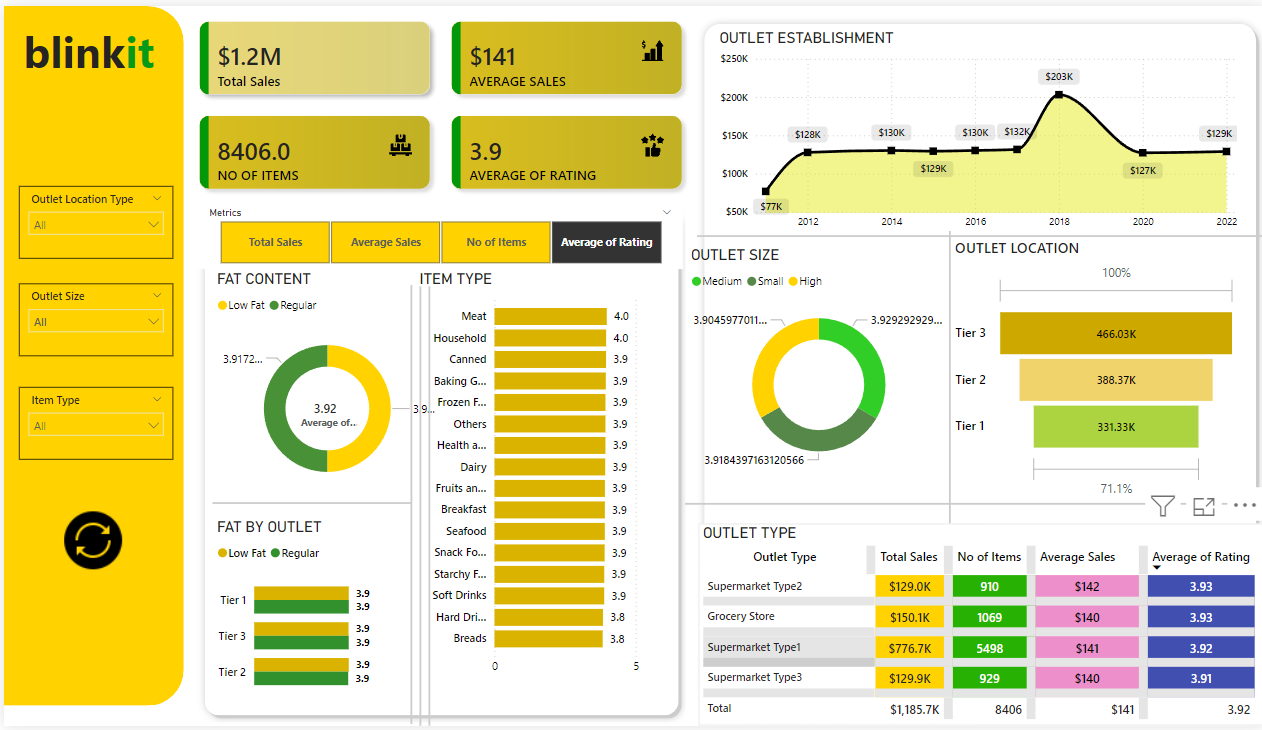

The page's visual inventory and layout, read from the dashboard file:
{"tool":"powerbi","page":{"name":"Page 1","canvas":[1400,800],"ordinal":0},"visuals":[{"type":"shape","box":[0,0,199.7,777.6],"z":0},{"type":"textbox","box":[15.9,12.4,167.9,83.1],"z":1000},{"type":"cardVisual","fields":{"Data":["BlinkIT Grocery Data.Total Sales","BlinkIT Grocery Data.Average sales","BlinkIT Grocery Data.No of Items","BlinkIT Grocery Data.Average of Rating"]},"box":[199.7,0,570.9,220],"z":2000},{"type":"shape","box":[215.6,219.2,542.6,577.9],"z":3000},{"type":"donutChart","title":"FAT CONTENT","fields":{"Y":["BlinkIT Grocery Data.Average of Rating"],"Category":["BlinkIT Grocery Data.Item Fat Content"]},"box":[231.5,293.4,254.5,259.8],"z":4000},{"type":"slicer","fields":{"Values":["Metrics.Metrics"]},"box":[215.6,219.2,539,74.2],"z":5000},{"type":"cardVisual","fields":{"Data":["BlinkIT Grocery Data.Average of Rating"]},"box":[305.8,399.4,104.3,107.8],"z":6000},{"type":"clusteredBarChart","title":"FAT BY OUTLET","fields":{"Y":["BlinkIT Grocery Data.Average of Rating"],"Category":["BlinkIT Grocery Data.Outlet Location Type"],"Series":["BlinkIT Grocery Data.Item Fat Content"]},"box":[231.5,569.1,220.9,208.6],"z":7000},{"type":"shape","box":[231.5,526.7,220.9,51.2],"z":8000},{"type":"shape","box":[318.1,309.3,268.6,487.8],"z":9000},{"type":"barChart","title":"ITEM TYPE","fields":{"Y":["BlinkIT Grocery Data.Average of Rating"],"Category":["BlinkIT Grocery Data.Item Type"]},"box":[456,293.4,298.7,457.7],"z":10000},{"type":"shape","box":[770.6,12.4,629.2,784.7],"z":11000},{"type":"lineChart","title":"OUTLET ESTABLISHMENT","fields":{"Y":["BlinkIT Grocery Data.Total Sales"],"Category":["BlinkIT Grocery Data.Outlet Establishment Year"]},"box":[790,24.7,585,231.5],"z":12000},{"type":"shape","box":[770.6,229.8,629.2,51.2],"z":13000},{"type":"donutChart","title":"OUTLET SIZE","fields":{"Y":["BlinkIT Grocery Data.Average of Rating"],"Category":["BlinkIT Grocery Data.Outlet Size"]},"box":[758.6,266.6,293.5,260.4],"z":14000},{"type":"shape","box":[917.2,249.2,268.6,514.3],"z":15000},{"type":"funnel","title":"OUTLET LOCATION","fields":{"Y":["Sum(BlinkIT Grocery Data.Sales)"],"Category":["BlinkIT Grocery Data.Outlet Location Type"]},"box":[1052.1,256.3,322.4,295.6],"z":16000},{"type":"shape","box":[756.5,529.1,642.8,49.6],"z":17000},{"type":"pivotTable","title":"OUTLET TYPE","fields":{"Values":["BlinkIT Grocery Data.Total Sales","BlinkIT Grocery Data.No of Items","BlinkIT Grocery Data.Average Sales","BlinkIT Grocery Data.Average of Rating"],"Rows":["BlinkIT Grocery Data.Outlet Type"]},"box":[771,574.6,628.4,225.3],"z":18000},{"type":"slicer","fields":{"Values":["BlinkIT Grocery Data.Outlet Location Type"]},"box":[16.5,200.5,171.6,80.6],"z":19000},{"type":"shape","box":[328.1,312.2,268.6,487.8],"z":20000},{"type":"shape","box":[338.1,312.2,268.6,487.8],"z":21000},{"type":"slicer","fields":{"Values":["BlinkIT Grocery Data.Item Type"]},"box":[16.5,423.7,171.6,80.6],"z":22000},{"type":"slicer","fields":{"Values":["BlinkIT Grocery Data.Outlet Size"]},"box":[16.5,308,171.6,80.6],"z":23000},{"type":"image","box":[56.9,554,84.2,80],"z":23001}]}

Visuals, with their boxes in screenshot pixels (x1, y1, x2, y2), scaled from the page's 1400x800 canvas onto the 1262x730 screenshot:
shape: select_region(0, 0, 180, 710)
textbox: select_region(14, 11, 166, 87)
cardVisual - BlinkIT Grocery Data.Total Sales x BlinkIT Grocery Data.Average sales: select_region(180, 0, 695, 201)
shape: select_region(194, 200, 683, 727)
"FAT CONTENT" donutChart: select_region(209, 268, 438, 505)
slicer - Metrics.Metrics: select_region(194, 200, 680, 268)
cardVisual - BlinkIT Grocery Data.Average of Rating: select_region(276, 364, 370, 463)
"FAT BY OUTLET" clusteredBarChart: select_region(209, 519, 408, 710)
shape: select_region(209, 481, 408, 527)
shape: select_region(287, 282, 529, 727)
"ITEM TYPE" barChart: select_region(411, 268, 680, 685)
shape: select_region(695, 11, 1261, 727)
"OUTLET ESTABLISHMENT" lineChart: select_region(712, 23, 1239, 234)
shape: select_region(695, 210, 1261, 256)
"OUTLET SIZE" donutChart: select_region(684, 243, 948, 481)
shape: select_region(827, 227, 1069, 697)
"OUTLET LOCATION" funnel: select_region(948, 234, 1239, 504)
shape: select_region(682, 483, 1261, 528)
"OUTLET TYPE" pivotTable: select_region(695, 524, 1261, 729)
slicer - BlinkIT Grocery Data.Outlet Location Type: select_region(15, 183, 170, 257)
shape: select_region(296, 285, 538, 729)
shape: select_region(305, 285, 547, 729)
slicer - BlinkIT Grocery Data.Item Type: select_region(15, 387, 170, 460)
slicer - BlinkIT Grocery Data.Outlet Size: select_region(15, 281, 170, 355)
image: select_region(51, 506, 127, 579)
